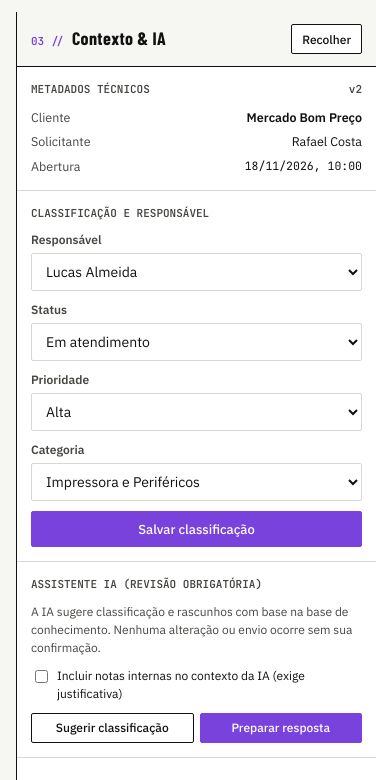
it: Componentes de atendimento e IA › exibe selo de simulação, falta de documentação e alerta de chamado desatualizado no painel de IA
Later steps or results of the test are not shown.
Click the button "Preparar resposta".
click(281, 728)  # box [200,713,362,743]
(page scrolled)
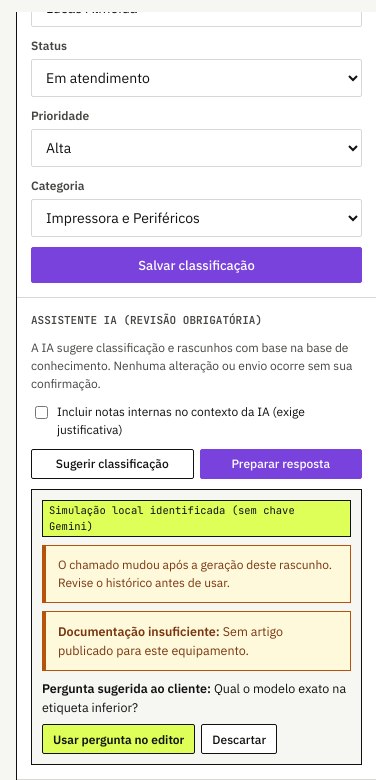
expect the text "Simulação local identificada (sem chave Gemini)" is shown: met, box [42,500,351,537]
expect the text "mudou após a geração deste rascunho" is shown: met, box [58,557,332,590]
expect the text "Documentação insuficiente:" is shown: met, box [58,623,220,639]
